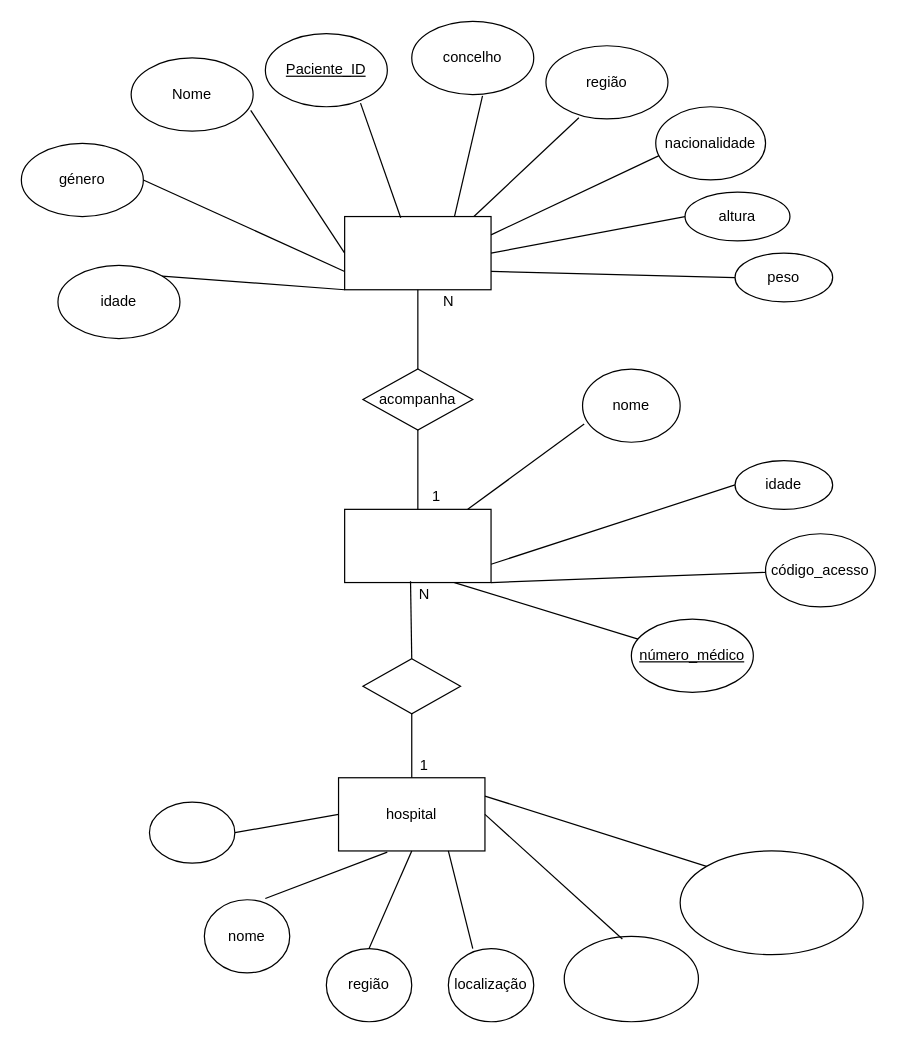
Image size: 897x1043. Some labels were removed from this diagram. Here are the shapes that lost their labels. From the top down, the box of each, then its label:
(343, 215, 491, 290): Paciente
(343, 508, 491, 583): Médico
(362, 658, 461, 714): tem
(148, 801, 235, 863): id
(679, 850, 863, 955): número_camas_ocupadas
(563, 935, 698, 1022): número_camas
